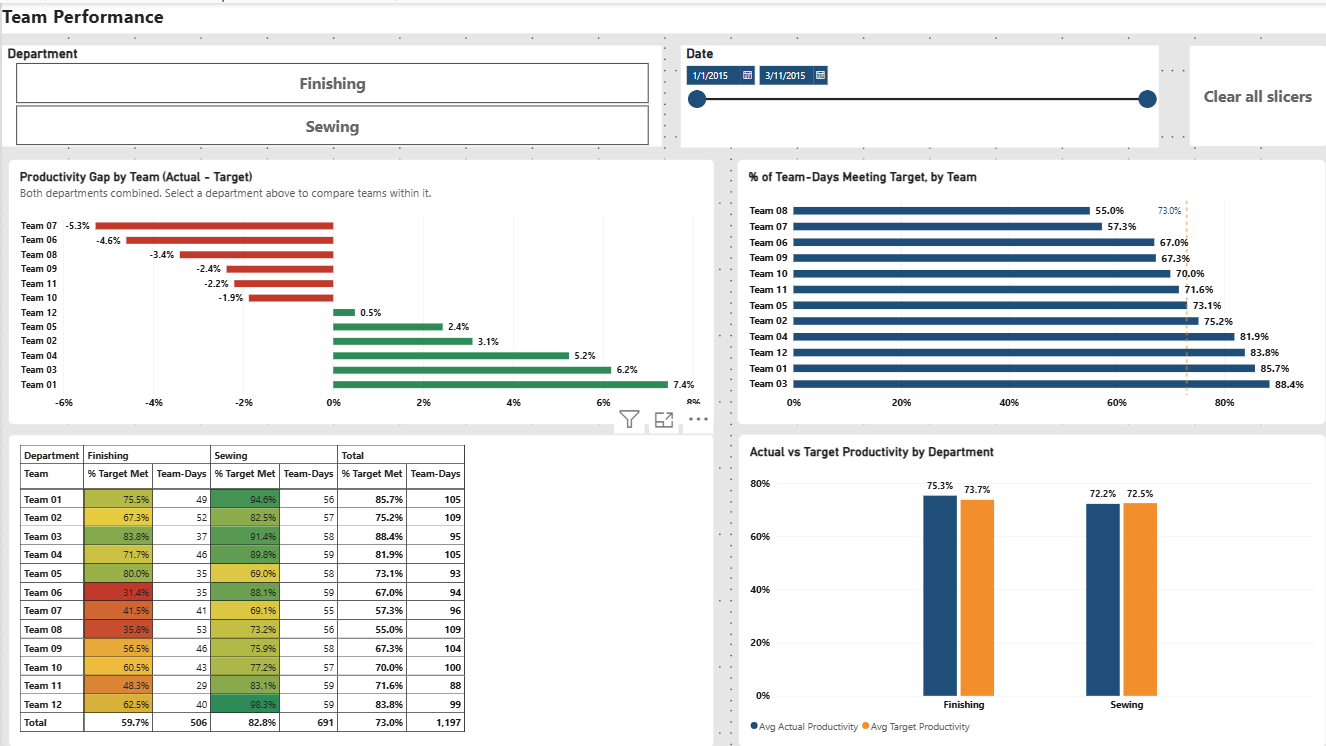

The dashboard page shown, as its layout file describes it:
{"tool":"powerbi","page":{"name":"Team Performance","canvas":[1920,1080],"ordinal":1},"visuals":[{"type":"textbox","box":[0,0,1921.2,44.2],"z":0},{"type":"slicer","fields":{"Values":["Production.department"]},"box":[0,61.5,955.8,146.2],"z":1000},{"type":"slicer","fields":{"Values":["DimDate.Date"]},"box":[982.7,61.5,692.3,146.2],"z":2000},{"type":"actionButton","box":[1721.2,61.5,198.1,146.2],"z":3000},{"type":"clusteredBarChart","title":"Productivity Gap by Team (Actual − Target)","fields":{"Category":["Production.team_name"],"Y":["_Measures.Productivity Gap"]},"box":[9.6,226.9,1023.1,384.6],"z":4000},{"type":"clusteredBarChart","title":"% of Team-Days Meeting Target, by Team","fields":{"Category":["Production.team_name"],"Y":["_Measures.% Target Met"]},"box":[1065.4,226.9,853.8,384.6],"z":5000},{"type":"pivotTable","title":"% Target Met by Team and Department","fields":{"Columns":["Production.department"],"Rows":["Production.team_name"],"Values":["_Measures.% Target Met","_Measures.Team-Days"]},"box":[9.6,625,1023.1,453.8],"z":6000},{"type":"clusteredColumnChart","title":"Actual vs Target Productivity by Department","fields":{"Category":["Production.department"],"Y":["_Measures.Avg Actual Productivity","_Measures.Avg Target Productivity"]},"box":[1067.3,625,851.9,453.8],"z":7000}]}

Visuals, with their boxes in screenshot pixels (x1, y1, x2, y2), scaled from the page's 1920x1080 canvas onto the 1326x746 screenshot:
textbox: detection(0, 0, 1325, 31)
slicer - Production.department: detection(0, 42, 660, 143)
slicer - DimDate.Date: detection(679, 42, 1157, 143)
actionButton: detection(1189, 42, 1325, 143)
"Productivity Gap by Team (Actual − Target)" clusteredBarChart: detection(7, 157, 713, 422)
"% of Team-Days Meeting Target, by Team" clusteredBarChart: detection(736, 157, 1325, 422)
"% Target Met by Team and Department" pivotTable: detection(7, 432, 713, 745)
"Actual vs Target Productivity by Department" clusteredColumnChart: detection(737, 432, 1325, 745)
